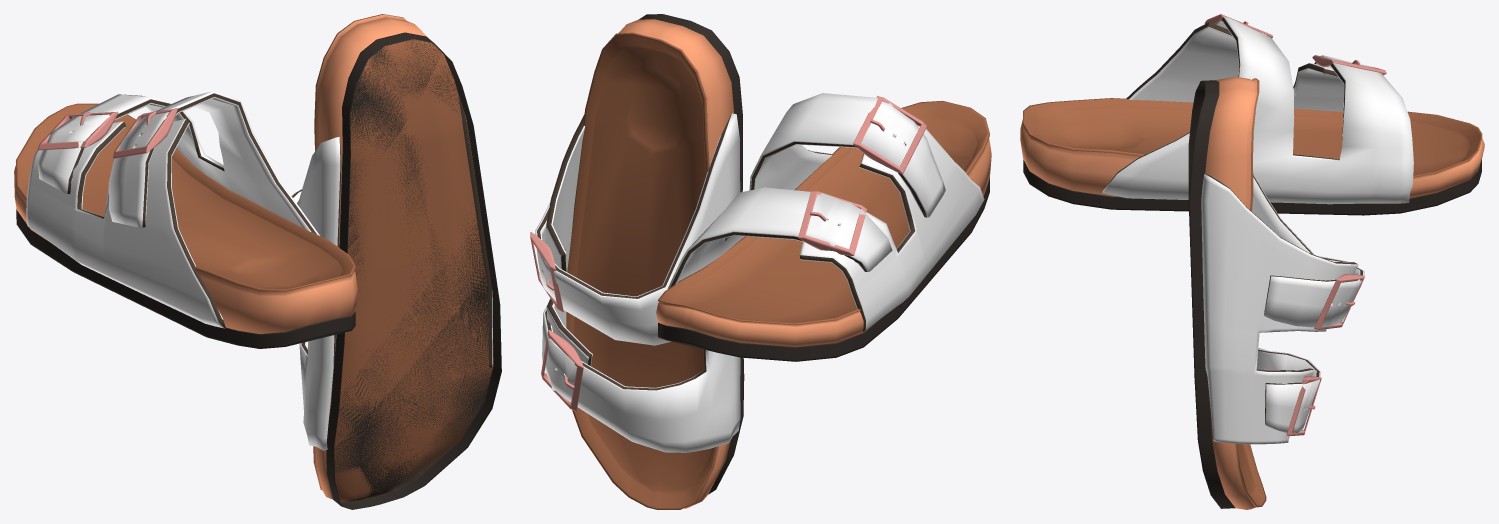
File: sandals.gltf
The picture shows the model from 3 angles, left to right: view 1: azimuth 30°, elevation 25°; view 2: azimuth 150°, elevation 25°; view 3: azimuth 270°, elevation 25°; orthographic projection. The views are drawn at different scales.
Visible parts, largest first — view 1: Plane.003, Plane.002, Plane.013, Plane.015, Plane.014, Plane.007, Plane.012, Plane.008, Plane.016, Plane.017; view 2: Plane.003, Plane.013, Plane.007, Plane.014, Plane.015, Plane.012, Plane.008, Plane.002, Plane.017, Plane.016, Plane.009, Plane.010; view 3: Plane.014, Plane.013, Plane.008, Plane.007, Plane.003, Plane.015, Plane.002, Plane.012, Plane.010, Plane.009.
Boxes of the visible parts, box(x1,y1,x2,y2) form: Plane.003: box(313, 14, 493, 502); Plane.002: box(326, 32, 501, 509); Plane.013: box(14, 103, 357, 333); Plane.015: box(26, 118, 225, 328); Plane.014: box(38, 91, 319, 235); Plane.007: box(291, 136, 341, 450); Plane.012: box(16, 209, 355, 348); Plane.008: box(458, 95, 492, 367); Plane.016: box(37, 111, 118, 150); Plane.017: box(112, 108, 177, 158); Plane.003: box(566, 19, 734, 509); Plane.013: box(656, 100, 991, 346); Plane.007: box(535, 113, 740, 452); Plane.014: box(667, 93, 945, 288); Plane.015: box(799, 97, 984, 331); Plane.012: box(658, 178, 989, 361); Plane.008: box(545, 114, 592, 392); Plane.002: box(639, 14, 744, 494); Plane.017: box(853, 96, 927, 174); Plane.016: box(798, 191, 867, 255); Plane.009: box(541, 330, 583, 411); Plane.010: box(530, 232, 563, 312); Plane.014: box(1102, 16, 1413, 204); Plane.013: box(1020, 98, 1484, 198); Plane.008: box(1201, 173, 1358, 444); Plane.007: box(1252, 174, 1364, 434); Plane.003: box(1205, 76, 1266, 509); Plane.015: box(1126, 22, 1343, 111); Plane.002: box(1188, 80, 1235, 508); Plane.012: box(1023, 159, 1481, 215); Plane.010: box(1314, 274, 1364, 329); Plane.009: box(1286, 376, 1321, 435).
Bounding box in the file's own units: 0.4568 × 0.5407 × 0.5409.
